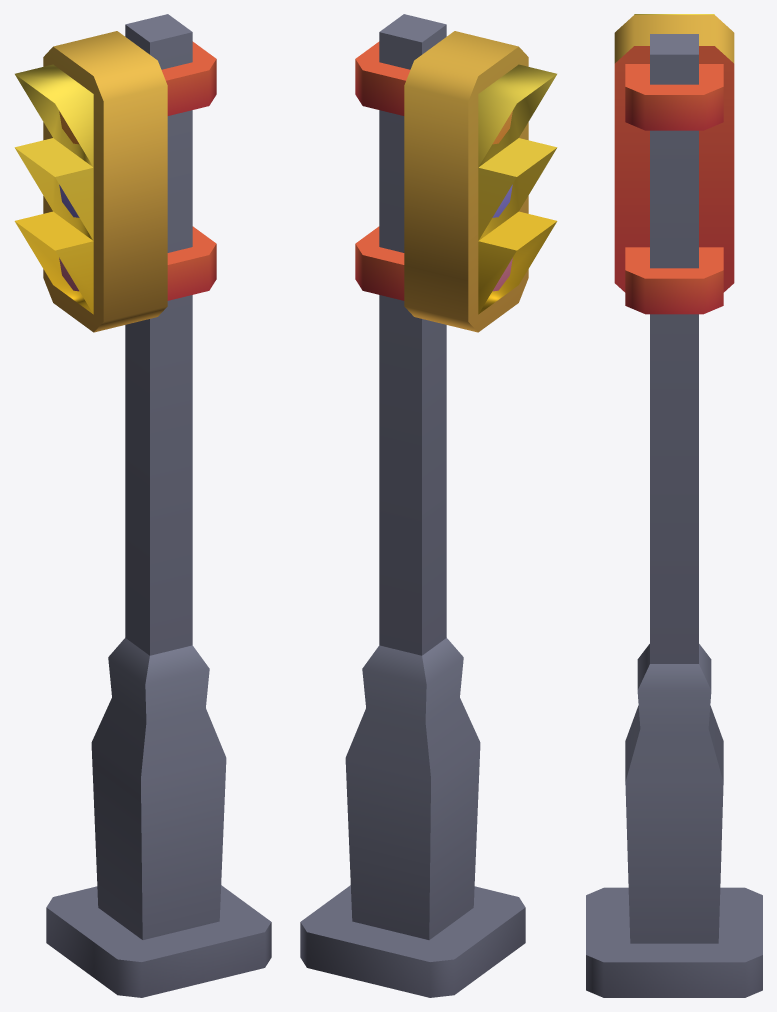
Rendered from rd-traffic-light.glb.
The picture shows the model from 3 angles, left to right: view 1: azimuth 30°, elevation 25°; view 2: azimuth 150°, elevation 25°; view 3: azimuth 270°, elevation 25°; orthographic projection.
Visible parts, largest first — view 1: traffic-light; view 2: traffic-light; view 3: traffic-light.
Boxes of the visible parts, x1,y1,x2,y2 form: traffic-light: (14,14,271,997); traffic-light: (300,14,557,997); traffic-light: (586,14,762,997).
Bounding box in the file's own units: 0.1176 × 0.515 × 0.09.
Materials: 1 (1 with a texture image).
